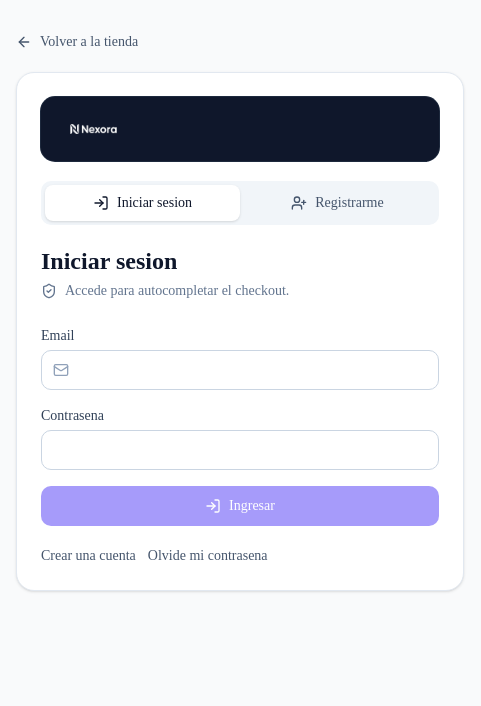
Test: LoginForm › switches between login, register and forgot modes
Expected: the heading "Iniciar sesion" is shown, [41,248,177,274]
What coordinates should you click on to do the following:
click the button "Crear una cuenta"
I would click on:
 (88, 556)
Its box is [41,546,136,566].
(page scrolled)
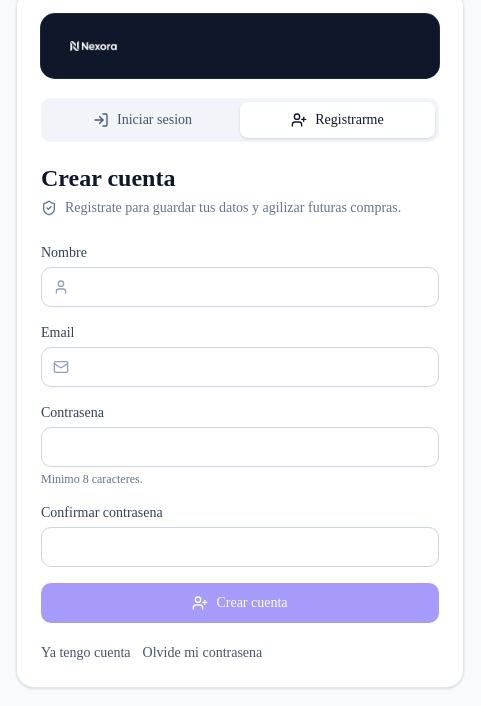
Now the heading "Crear cuenta" is shown, box [41,165,175,191]
Now the field labelled "Nombre" is shown, box [41,267,439,307]
What coordinates should you click on to do the following:
click the button "Olvide mi contrasena"
I would click on:
 (202, 653)
Its box is [143,643,262,663].
(page scrolled)
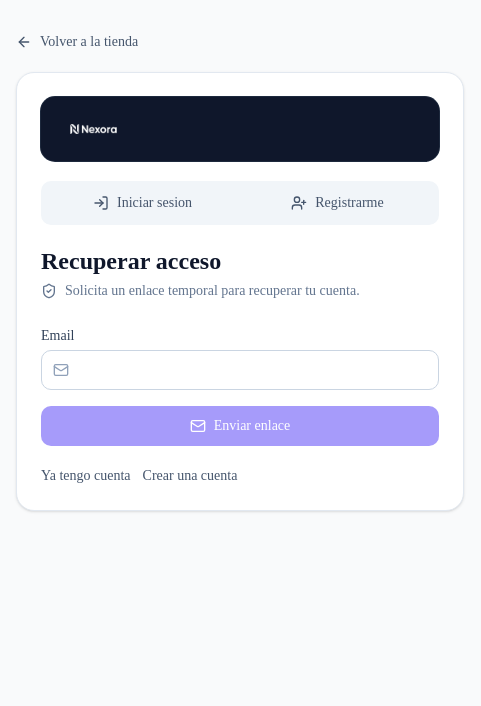
Now the heading "Recuperar acceso" is shown, box [41,248,221,274]
